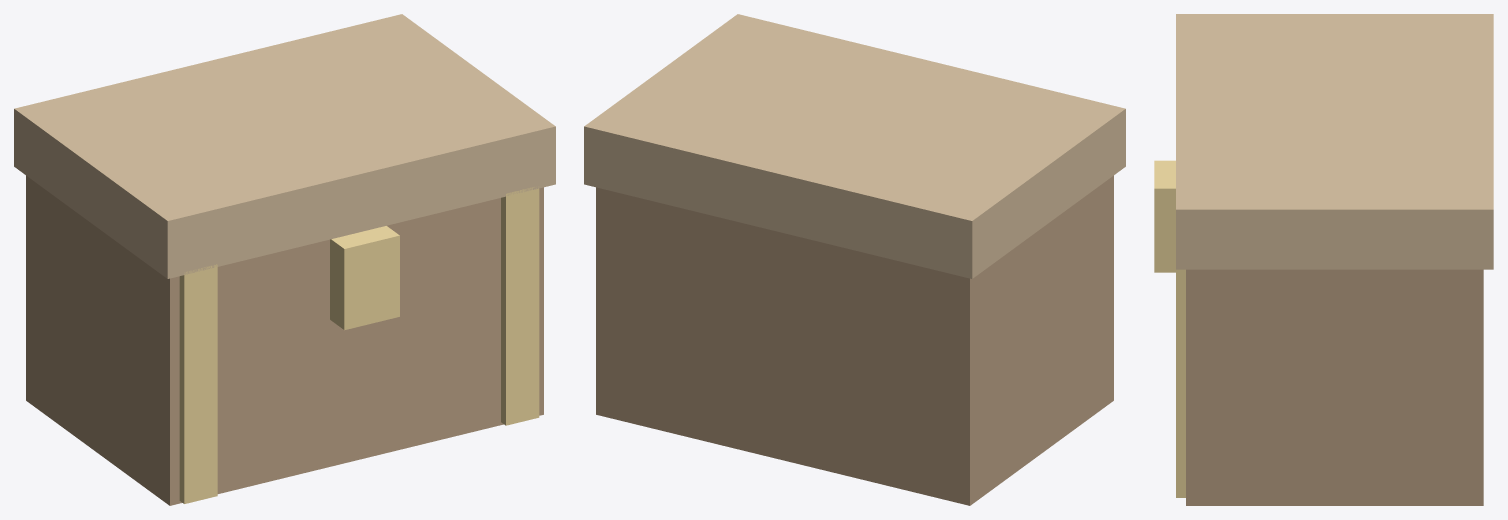
File: chest.glb
3 views of the same model, side by side, from view 1: azimuth 30°, elevation 25°; view 2: azimuth 150°, elevation 25°; view 3: azimuth 270°, elevation 25° (orthographic). The views are drawn at different scales.
Parts seen in each view (by area): view 1: chest_body, lid, chest_band (×2), lock; view 2: chest_body, lid; view 3: lid, chest_body, lock, chest_band.
Boxes of the visible parts, x1,y1,x2,y2 form: chest_body: (26, 175, 543, 505); lid: (14, 14, 555, 278); chest_band (×2): (179, 186, 539, 503); lock: (330, 226, 399, 330); chest_body: (596, 175, 1113, 505); lid: (584, 14, 1125, 278); lid: (1176, 14, 1493, 269); chest_body: (1186, 269, 1483, 505); lock: (1154, 160, 1175, 272); chest_band: (1176, 269, 1185, 497).
Size of the model in its own units: 1.4 by 1 by 1.02.
